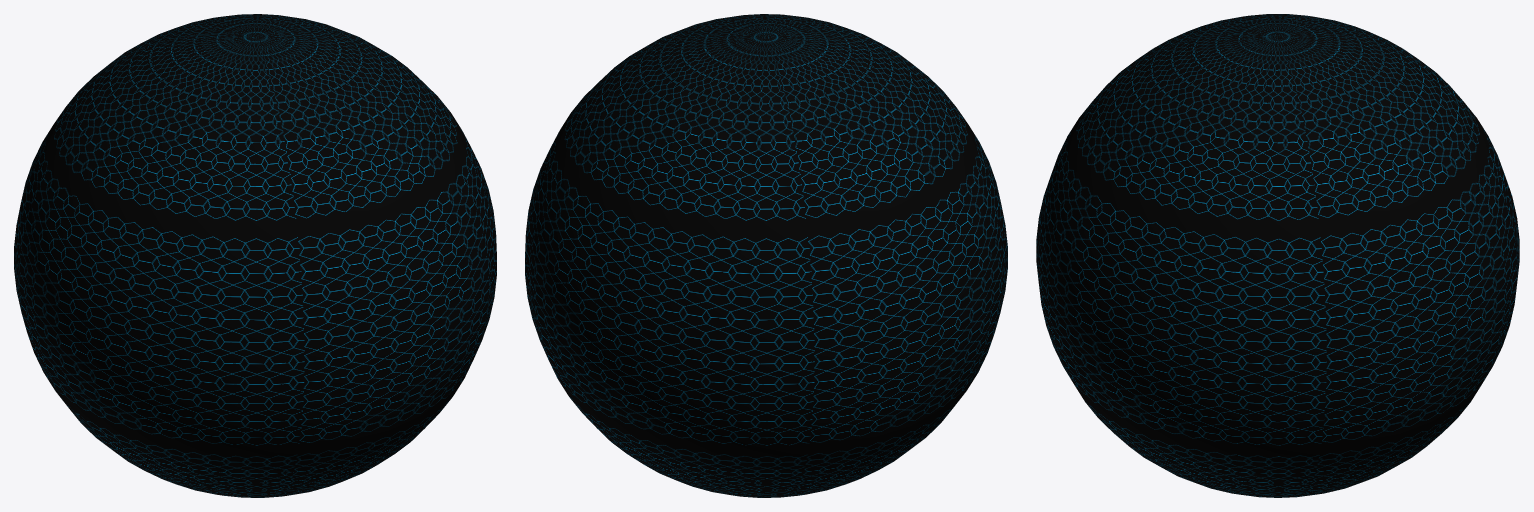
The model's file is light_3.fbx.
3 views of the same model, side by side, from view 1: azimuth 30°, elevation 25°; view 2: azimuth 150°, elevation 25°; view 3: azimuth 270°, elevation 25° (orthographic).
Visible parts, largest first — view 1: pSphere1; view 2: pSphere1; view 3: pSphere1.
Boxes of the visible parts, x1,y1,x2,y2 form: pSphere1: [14, 14, 496, 497]; pSphere1: [525, 14, 1007, 497]; pSphere1: [1036, 14, 1519, 497].
Size of the model in its own units: 1.99 by 2 by 1.99.
